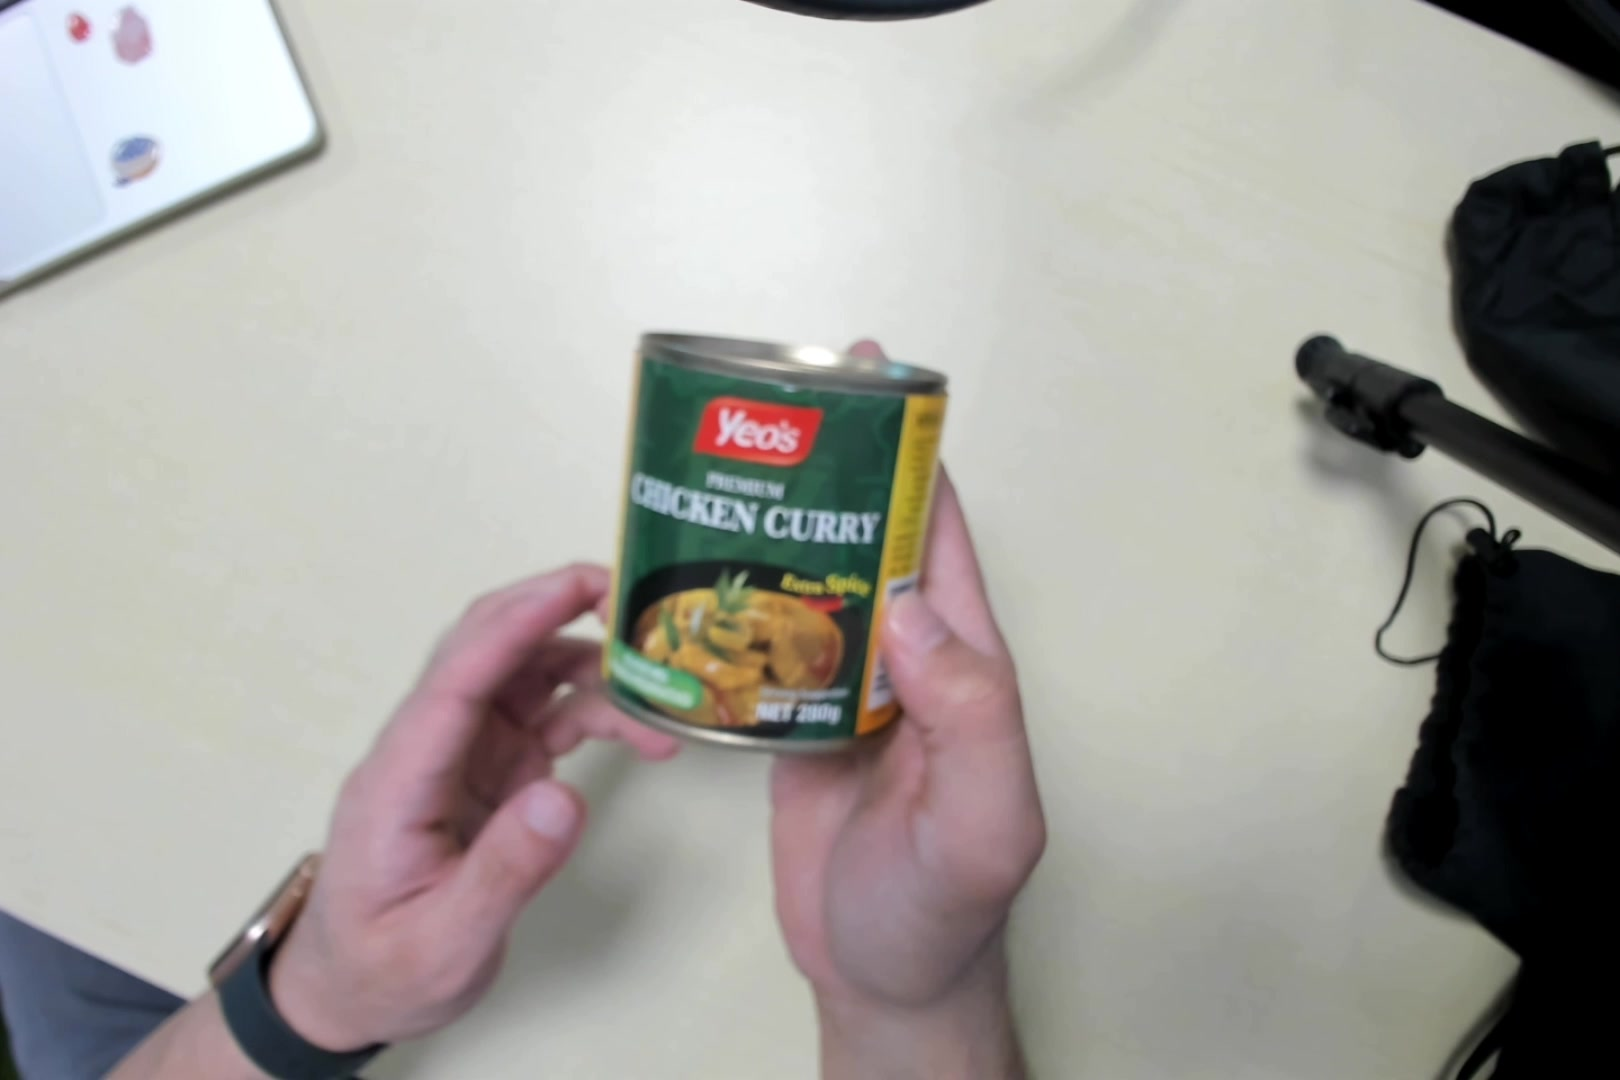CannedChicken_100-199g_Halal_NonHealthy: (604, 344, 947, 756)
